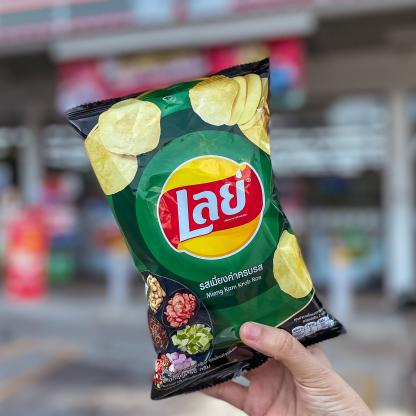potatochip: (54, 50, 354, 406)
